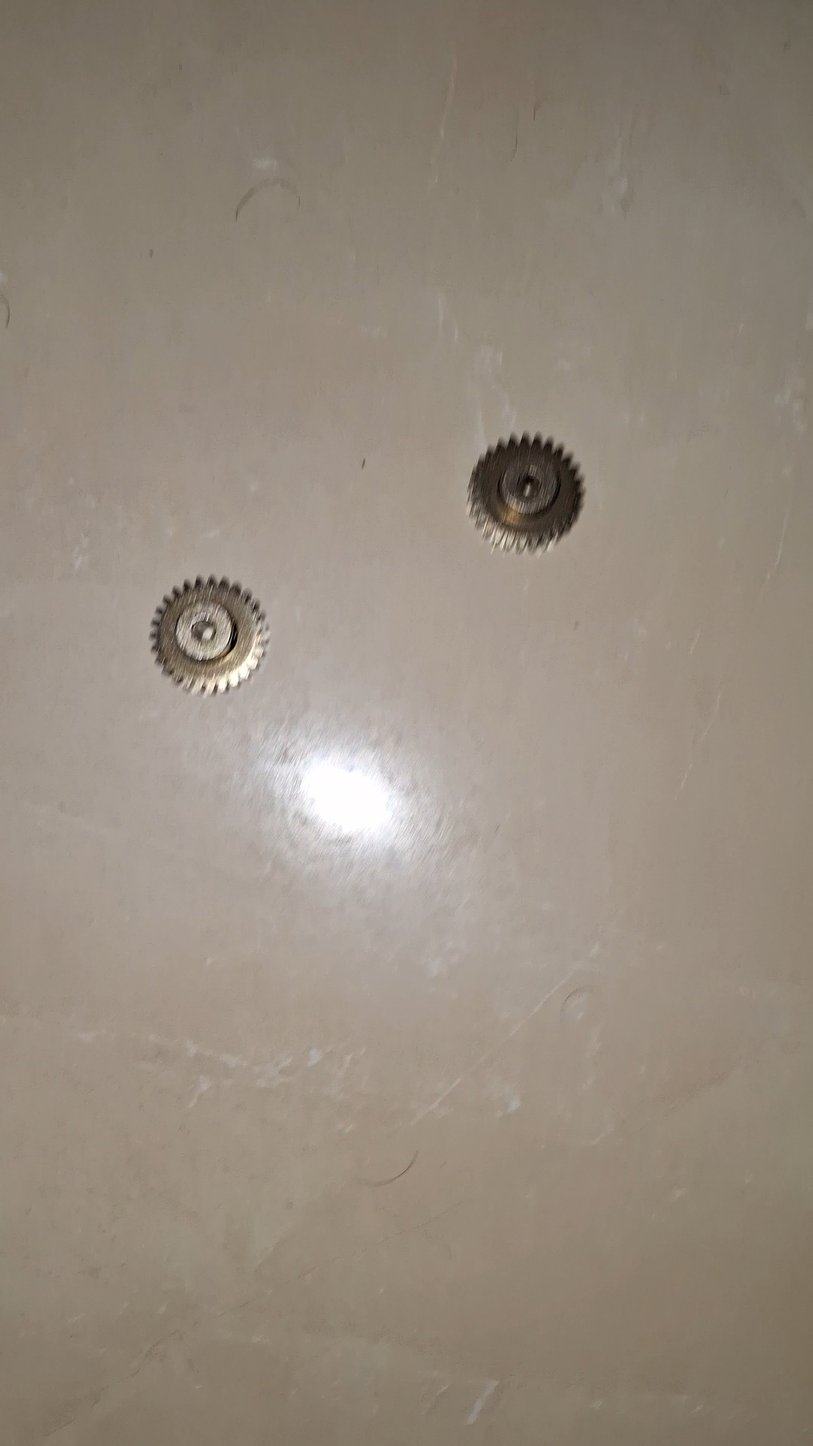spur gear: (152, 576, 265, 694), (469, 434, 581, 550)
